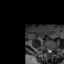CCS_normal: (49, 47, 50, 55)
LFS_normal: (52, 47, 54, 52)
LLS_normal: (50, 47, 52, 53)
RFS_normal: (45, 46, 47, 51)
RLS_normal: (47, 47, 49, 53)
